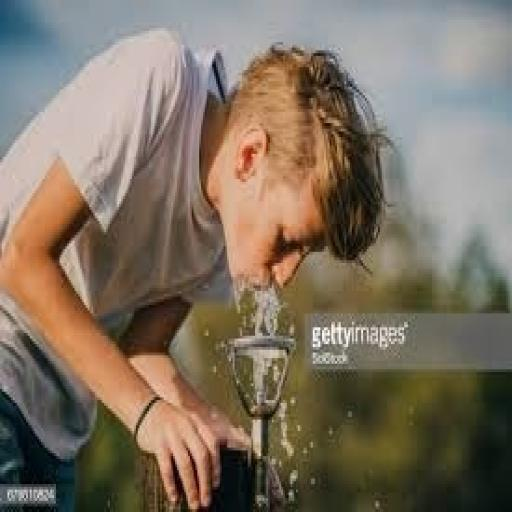drinking: (90, 55, 430, 512)
